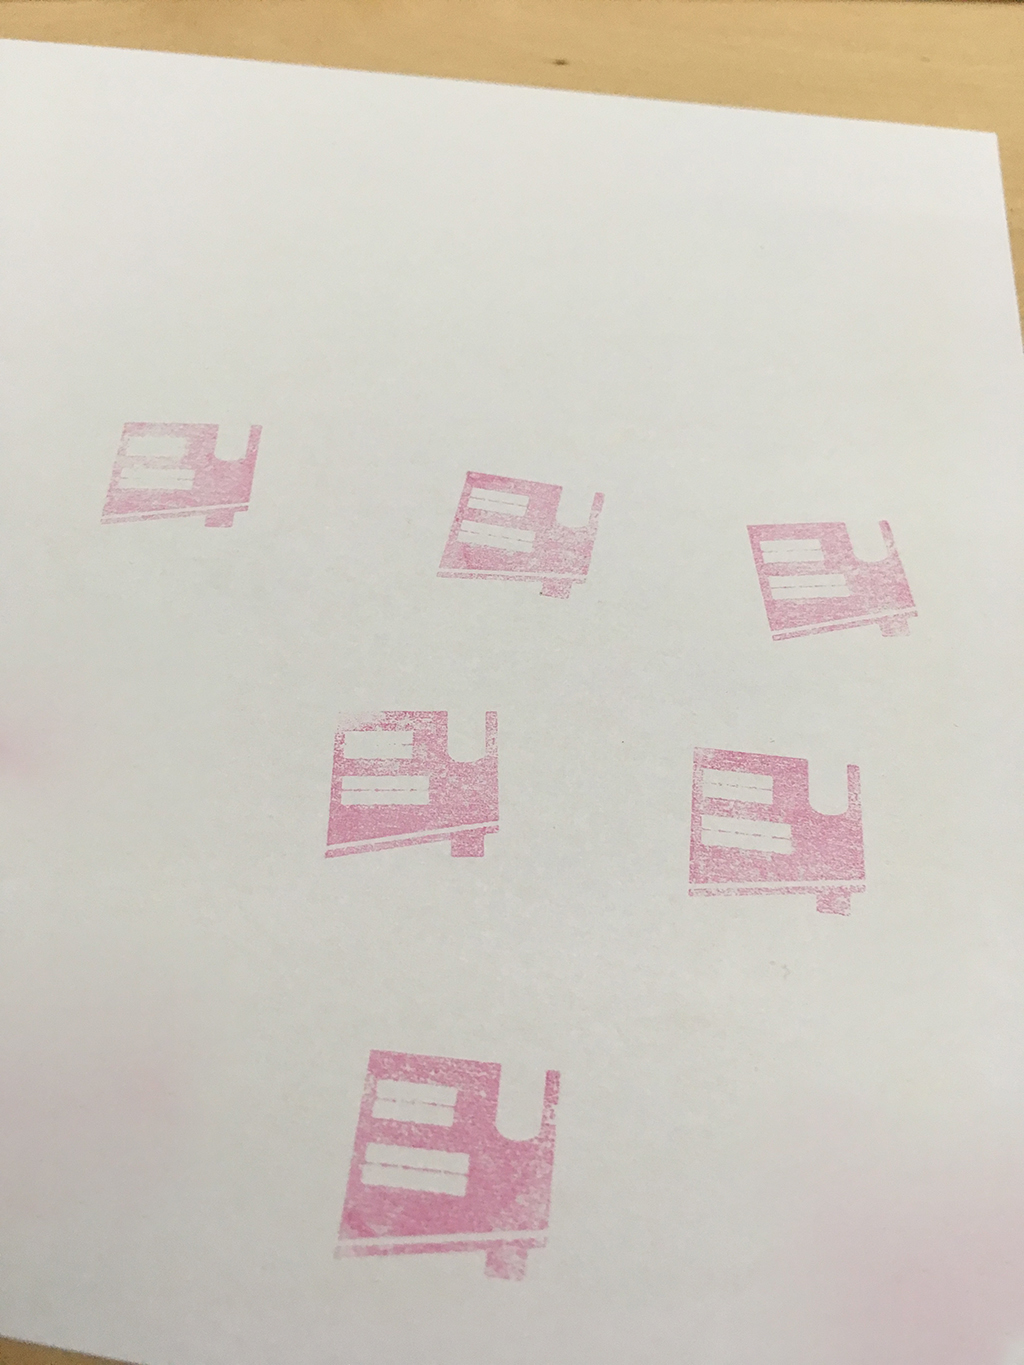house: (328, 1044, 582, 1300), (681, 725, 882, 940), (314, 692, 517, 881), (709, 511, 944, 662), (423, 456, 631, 612), (82, 406, 268, 543)
